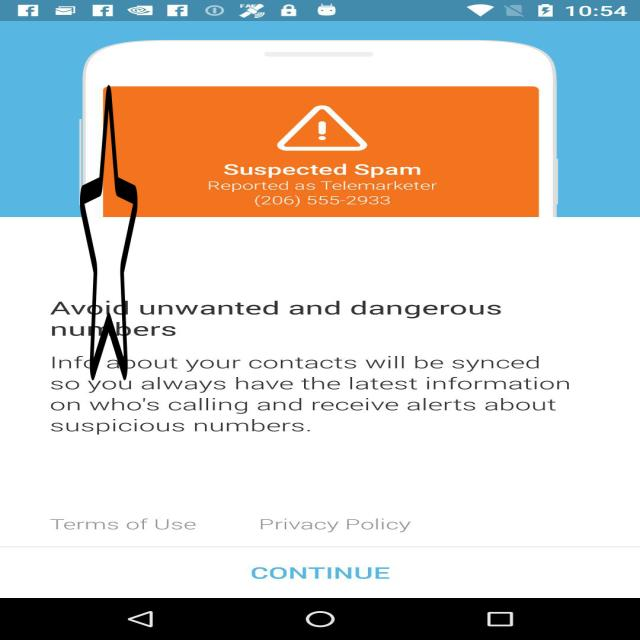forced continuity: (80, 78, 137, 387)
